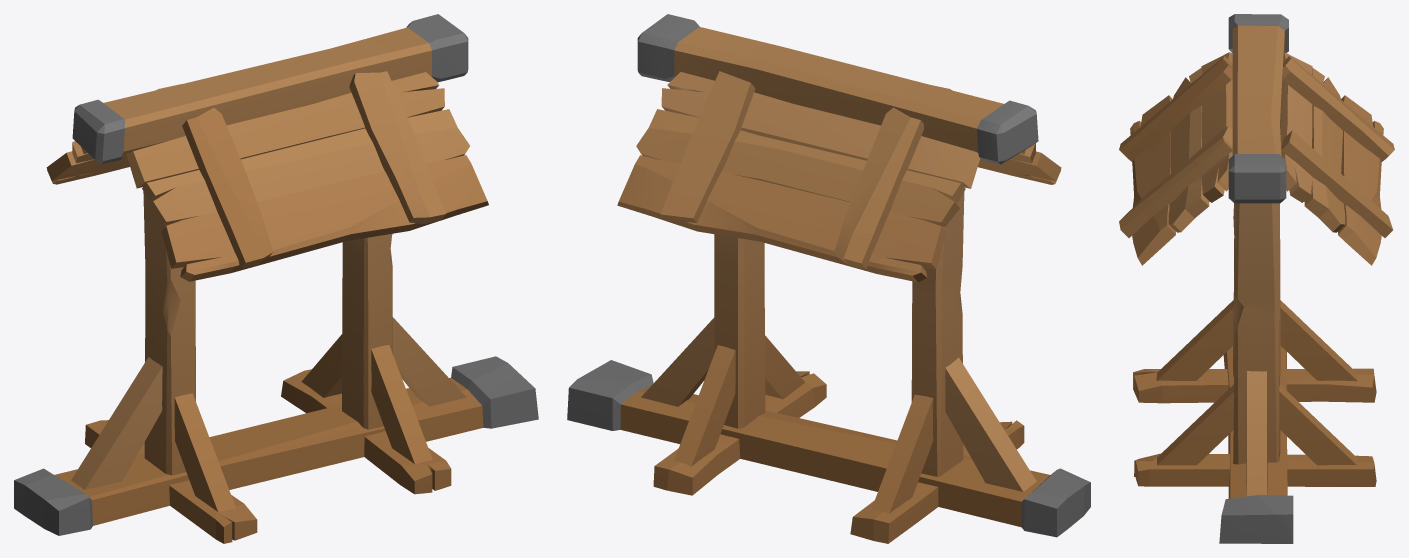
File: WeaponRack_I.fbx
3 renders of one model, left to right at view 1: azimuth 30°, elevation 25°; view 2: azimuth 150°, elevation 25°; view 3: azimuth 270°, elevation 25°, orthographic. The views are drawn at different scales.
Parts seen in each view (by area): view 1: WeaponRack_I; view 2: WeaponRack_I; view 3: WeaponRack_I.
Boxes of the visible parts, x1,y1,x2,y2 form: WeaponRack_I: [14, 14, 538, 543]; WeaponRack_I: [567, 14, 1090, 543]; WeaponRack_I: [1119, 14, 1394, 543].
Bounding box in the file's own units: 350 × 273 × 195.
